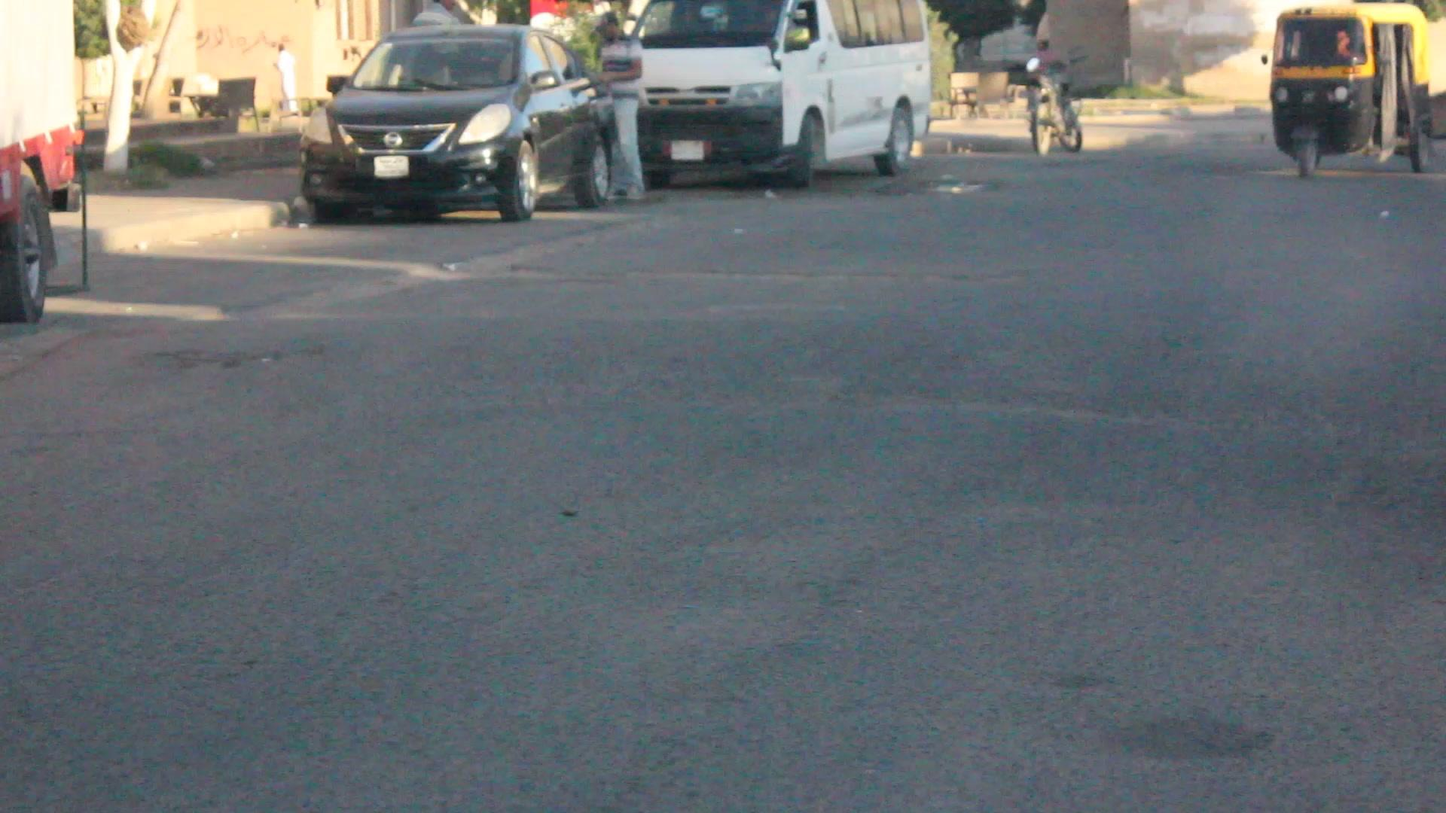Bump: (346, 284, 1425, 414)
